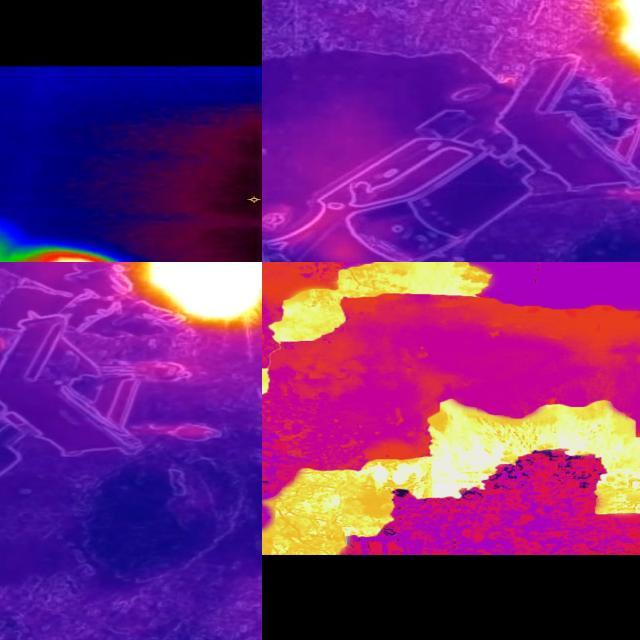fire: (262, 396, 640, 559), (264, 263, 506, 348), (125, 263, 263, 328), (602, 1, 640, 78), (12, 248, 142, 263), (262, 369, 278, 395)
